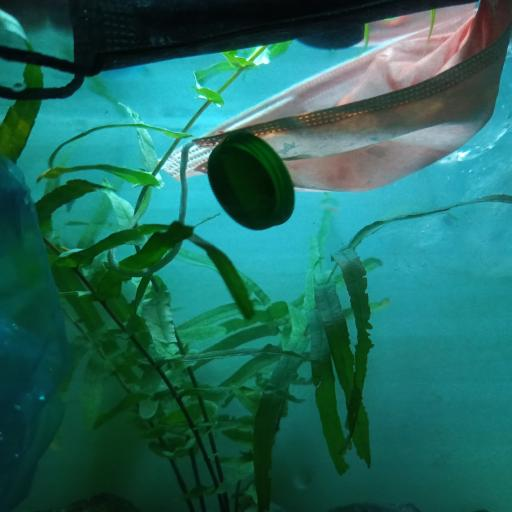bottle_cap: (208, 132, 294, 230), (300, 24, 366, 49)
mask: (155, 0, 512, 192), (0, 0, 476, 100)
plastic_bag: (0, 153, 76, 512), (393, 92, 512, 257)
